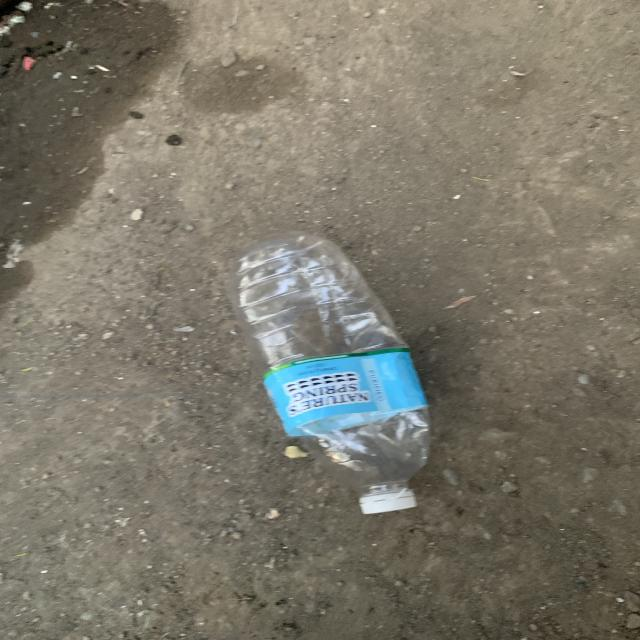Bottle: (232, 233, 430, 514)
